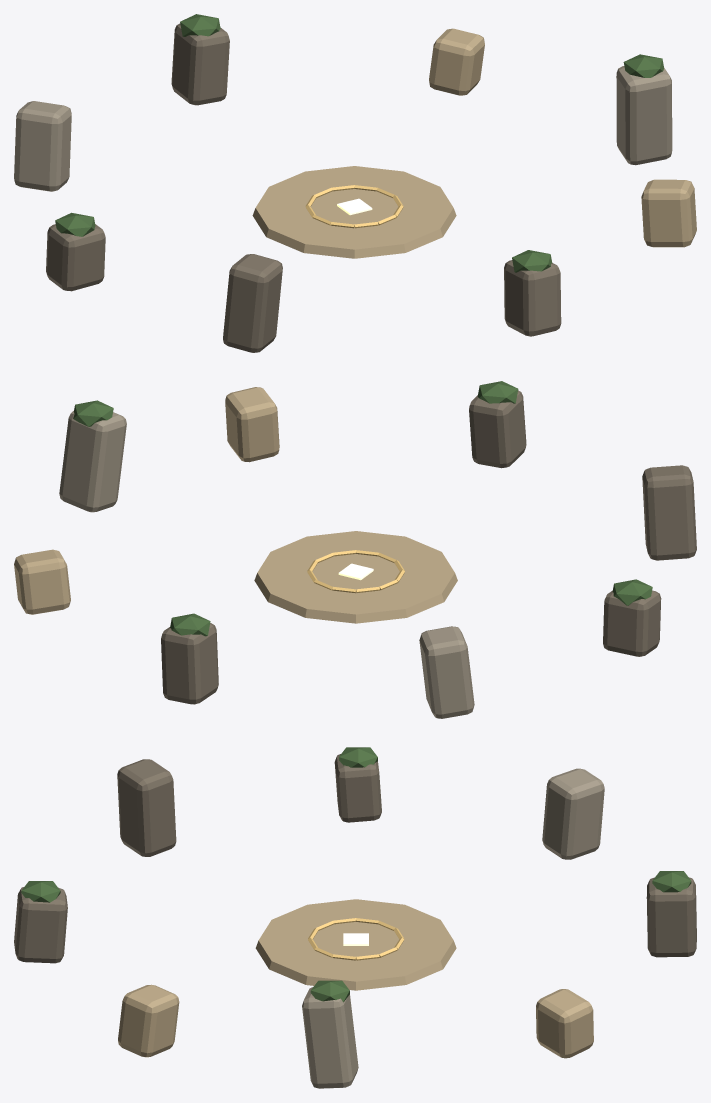
Rendered from cercle_lanterne.glb.
3 renders of one model, top to bottom at view 1: azimuth 30°, elevation 25°; view 2: azimuth 150°, elevation 25°; view 3: azimuth 270°, elevation 25°, orthographic.
Visible parts, largest first — view 1: cercle_lanterne; view 2: cercle_lanterne; view 3: cercle_lanterne.
Part boxes in pixels (<box>): cercle_lanterne: <box>14,14,696,352</box>; cercle_lanterne: <box>14,381,696,718</box>; cercle_lanterne: <box>14,747,696,1088</box>.
Bounding box in the file's own units: 4.77 × 0.7797 × 4.76.
